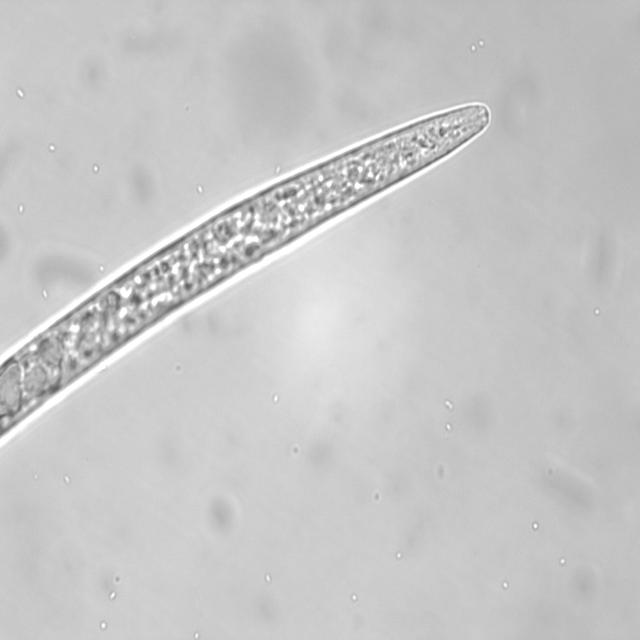Meloidogyne: (0, 99, 497, 450)
